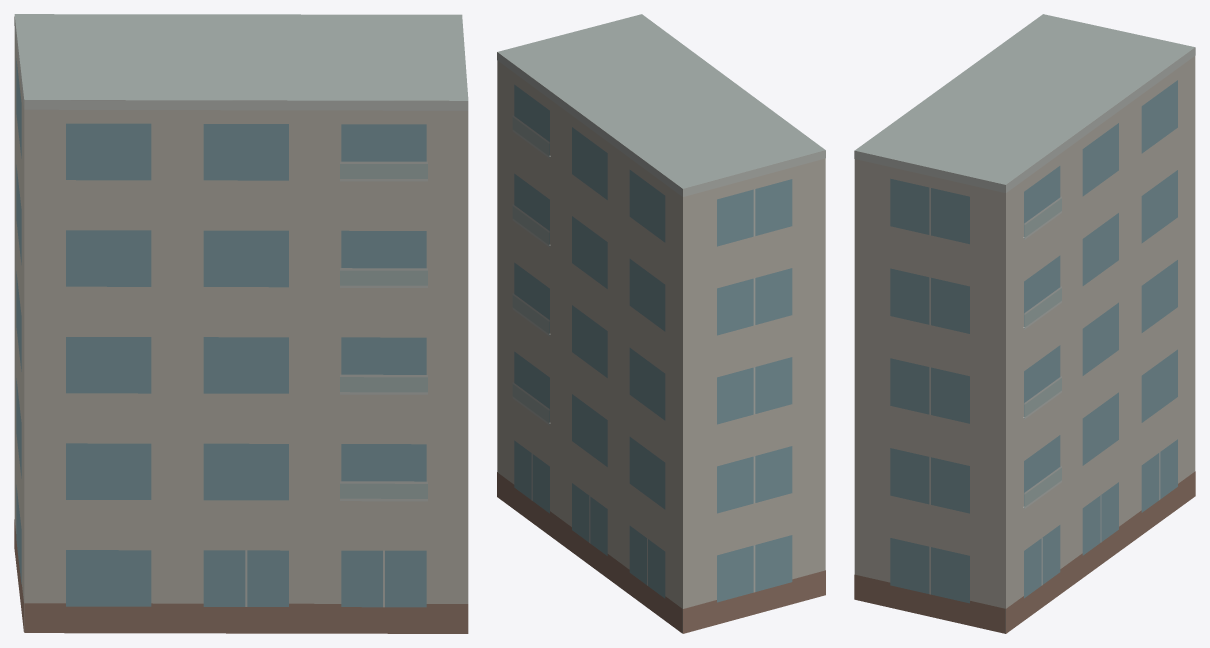
File: survey-upis-32884561.glb
3 views of the same model, side by side, from view 1: azimuth 30°, elevation 25°; view 2: azimuth 150°, elevation 25°; view 3: azimuth 270°, elevation 25° (orthographic). The views are drawn at different scales.
Visible parts, largest first — view 1: survey-upis-32884561.tmp; view 2: survey-upis-32884561.tmp; view 3: survey-upis-32884561.tmp.
Part boxes in pixels (box(x1,y1,x2,y2)): survey-upis-32884561.tmp: box(14, 14, 468, 633); survey-upis-32884561.tmp: box(497, 14, 825, 633); survey-upis-32884561.tmp: box(854, 14, 1195, 633).
Size of the model in its own units: 10.79 by 13.2 by 9.1.
